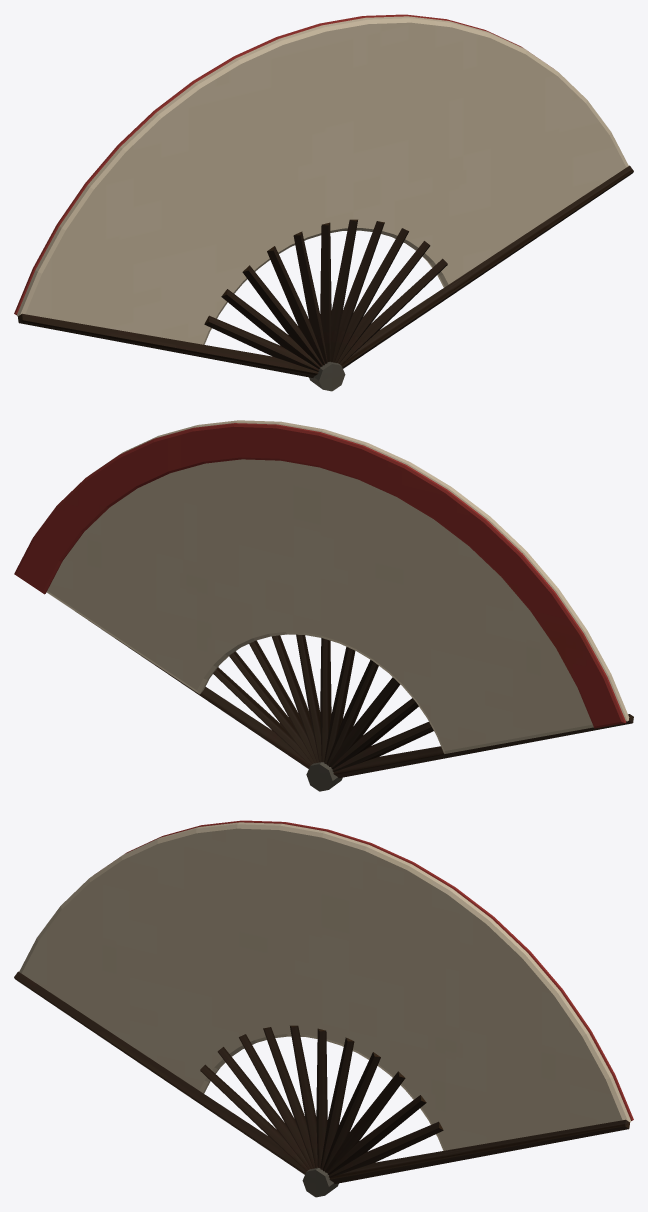
File: wpn_fan_01.glb
The picture shows the model from 3 angles, top to bottom: view 1: azimuth 30°, elevation 25°; view 2: azimuth 150°, elevation 25°; view 3: azimuth 330°, elevation 25°; orthographic projection.
Parts seen in each view (by area): view 1: wpn_fan_01; view 2: wpn_fan_01; view 3: wpn_fan_01.
Part boxes in pixels (left/top/right/bottom): wpn_fan_01: left=14, top=14, right=633, bottom=391; wpn_fan_01: left=14, top=420, right=633, bottom=791; wpn_fan_01: left=14, top=820, right=633, bottom=1197.
Bounding box in the file's own units: 0.5593 × 0.312 × 0.021.
Materials: 4 (4 with a texture image).
